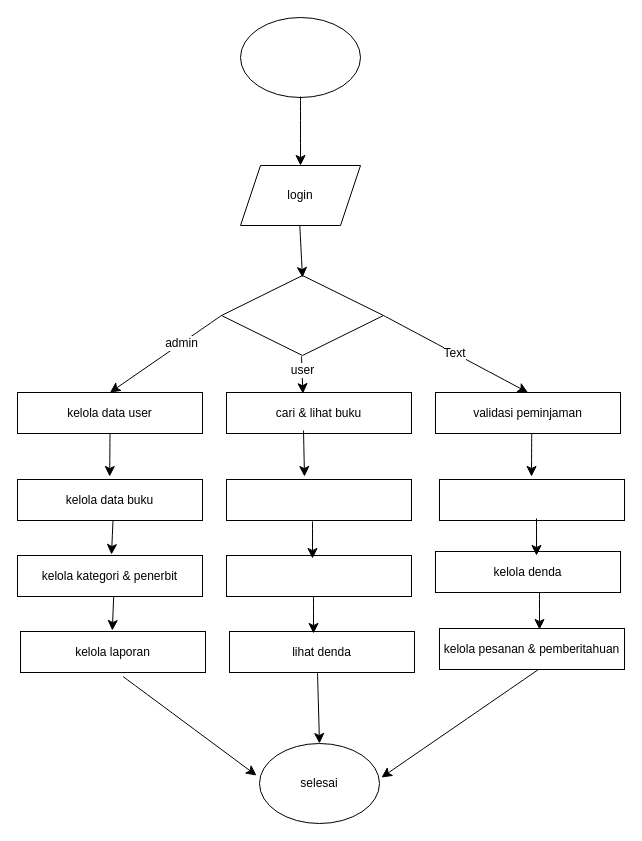
Some shapes in this 642 by 841 pixel diagram are drawn without their labels. Each missing label, with the box of its shape:
admin,user,petugas: (220, 274, 384, 356)
kembalikan buku: (226, 554, 412, 596)
Mulai: (240, 16, 360, 98)
pinjam buku: (226, 478, 412, 520)
validasi pengembalian: (438, 478, 624, 520)
